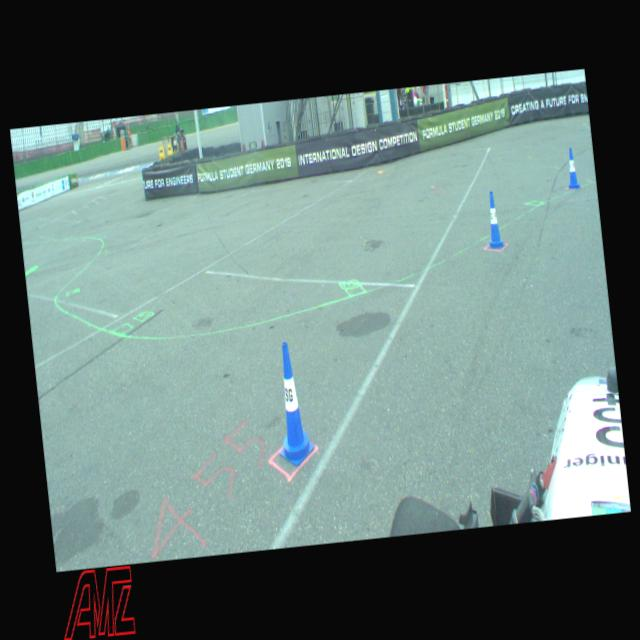blue_cone: (268, 340, 316, 466), (482, 190, 504, 250), (564, 148, 580, 189)
